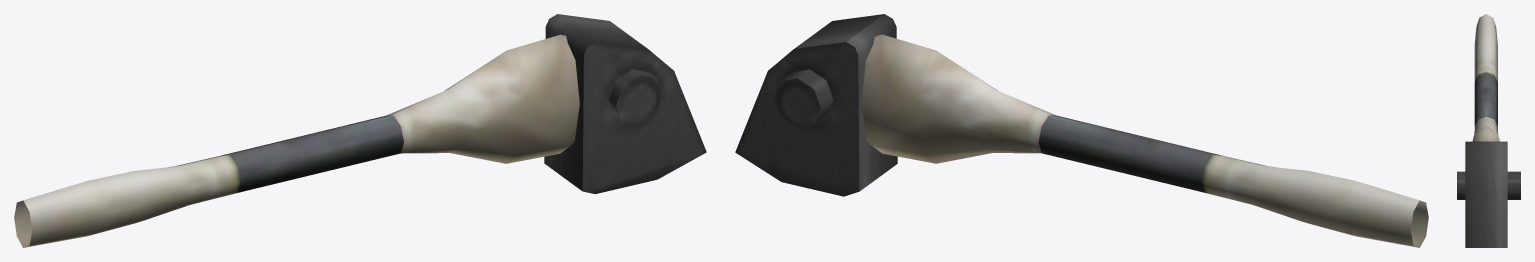
Rendered from diff_rod_left_link.dae.
The picture shows the model from 3 angles, left to right: view 1: azimuth 30°, elevation 25°; view 2: azimuth 150°, elevation 25°; view 3: azimuth 270°, elevation 25°; orthographic projection. The views are drawn at different scales.
Parts seen in each view (by area): view 1: diff_rod_left_link; view 2: diff_rod_left_link; view 3: diff_rod_left_link.
Boxes of the visible parts, bbox=[...] form: diff_rod_left_link: bbox=[14, 14, 706, 247]; diff_rod_left_link: bbox=[735, 14, 1428, 247]; diff_rod_left_link: bbox=[1457, 14, 1520, 247].
Bounding box in the file's own units: 0.4063 × 0.0614 × 0.0921.
Materials: 1 (1 with a texture image).
